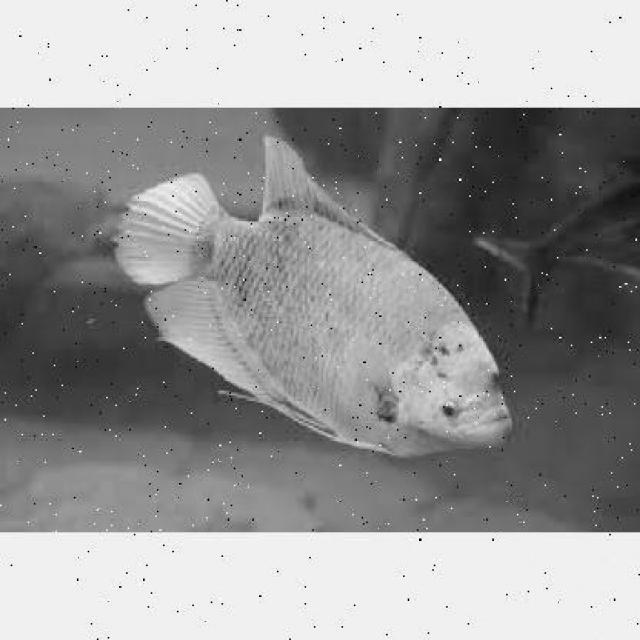gurame: (116, 140, 522, 460)
